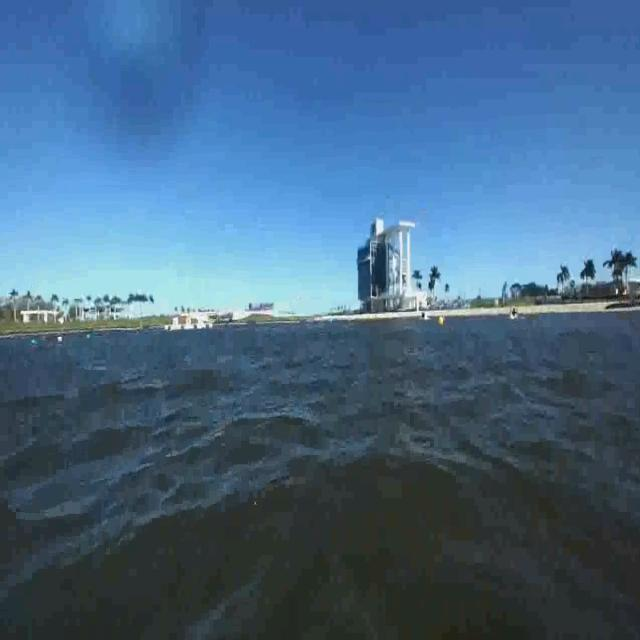yellow-buoy: (439, 315, 446, 327)
